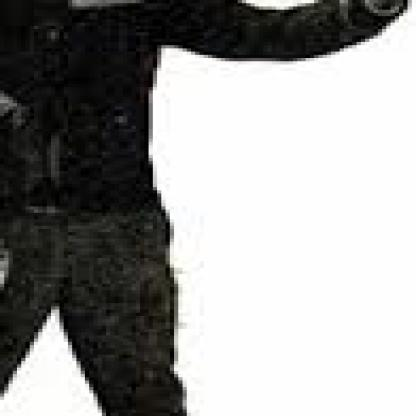gun: (255, 164, 412, 313)
